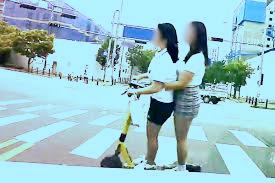multiple: (102, 21, 212, 183)
